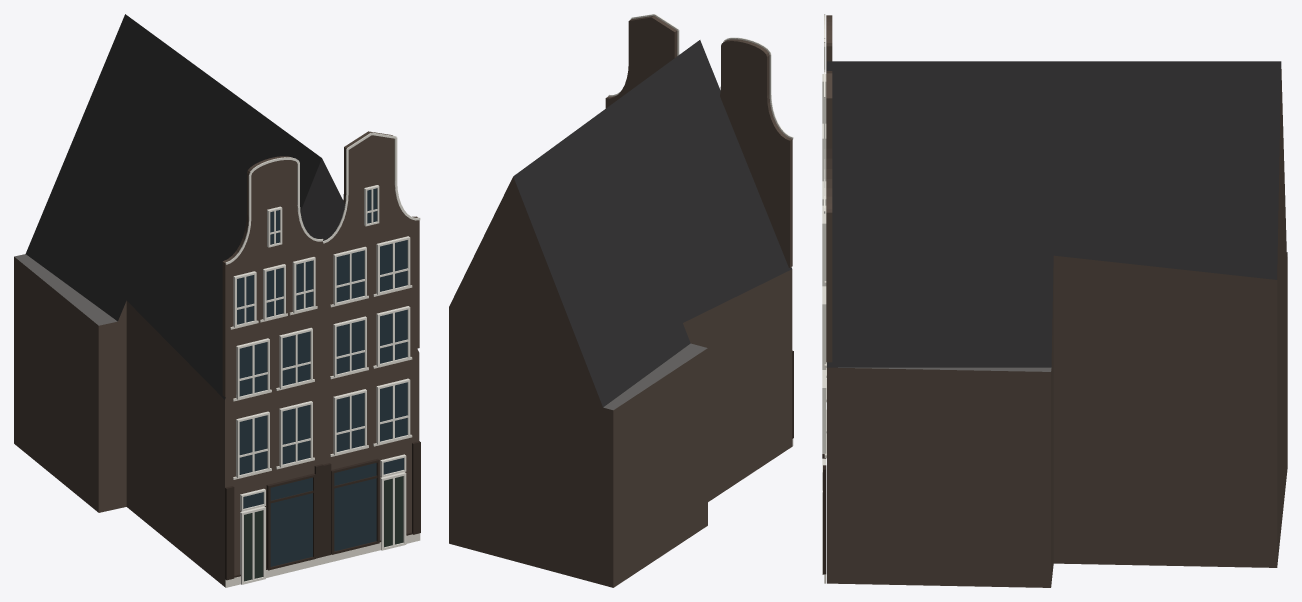
3 views of the same model, side by side, from view 1: azimuth 30°, elevation 25°; view 2: azimuth 150°, elevation 25°; view 3: azimuth 270°, elevation 25° (orthographic). The views are drawn at different scales.
Visible parts, largest first — view 1: spec-0363100012182852; view 2: spec-0363100012182852; view 3: spec-0363100012182852.
Part boxes in pixels (<box>): spec-0363100012182852: <box>14,14,420,587</box>; spec-0363100012182852: <box>449,14,793,587</box>; spec-0363100012182852: <box>822,14,1287,587</box>.
Size of the model in its own units: 8.7 by 15.8 by 13.77.
